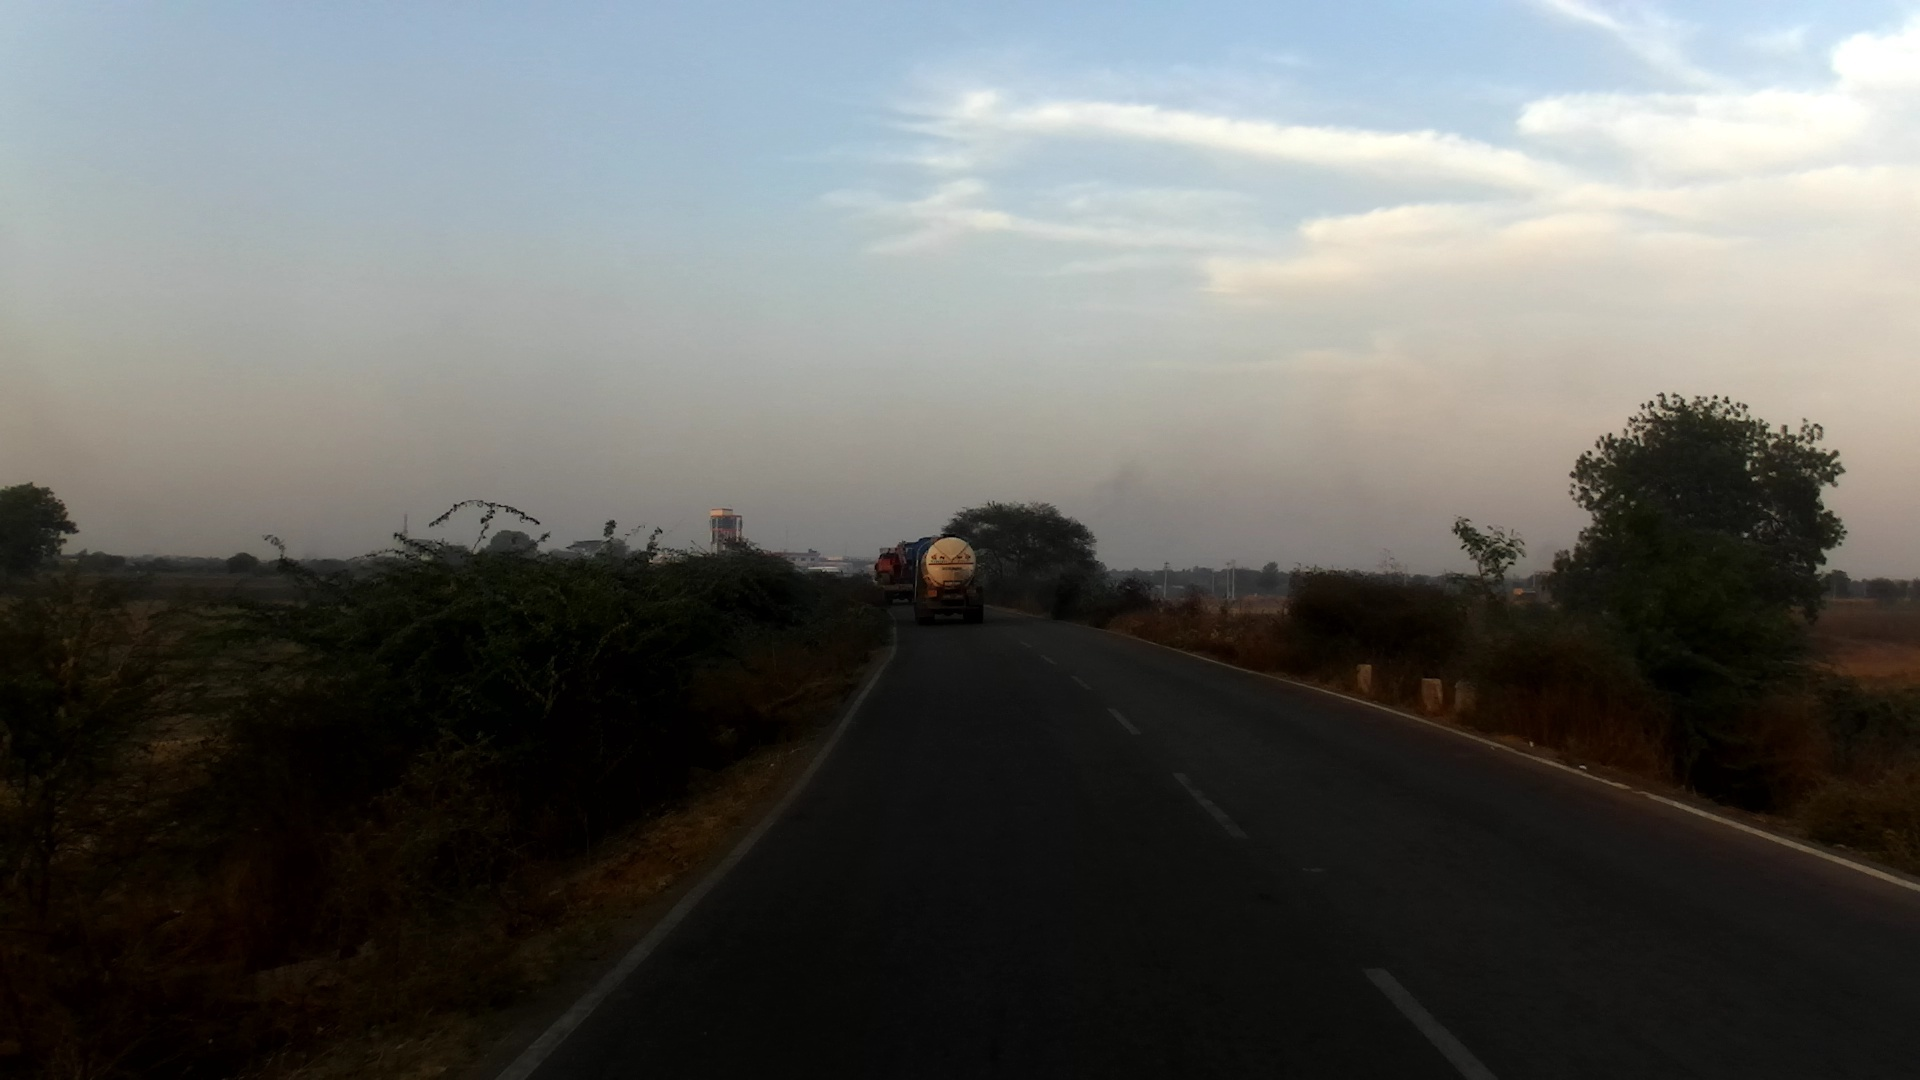truck: (909, 531, 988, 626), (878, 541, 923, 604)
